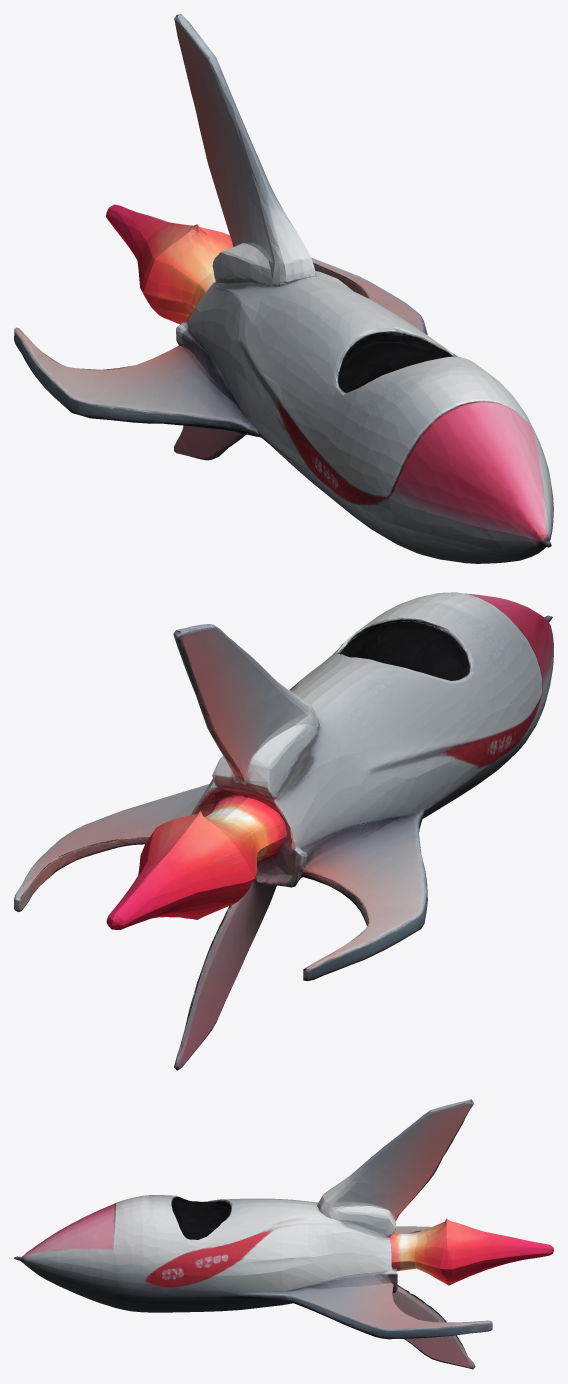
The model's file is rocketModel.glb.
The picture shows the model from 3 angles, top to bottom: view 1: azimuth 30°, elevation 25°; view 2: azimuth 150°, elevation 25°; view 3: azimuth 270°, elevation 25°; orthographic projection. The views are drawn at different scales.
Visible parts, largest first — view 1: world; view 2: world; view 3: world.
Boxes of the visible parts, x1,y1,x2,y2 form: world: (14, 14, 553, 563); world: (14, 592, 553, 1070); world: (14, 1099, 553, 1369).
Size of the model in its own units: 0.4532 by 0.544 by 0.9876.
1 material, 1 textured.
